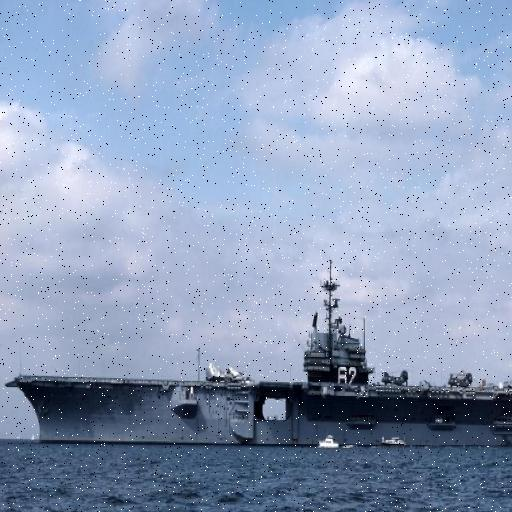Portanaves: (5, 255, 512, 449)
